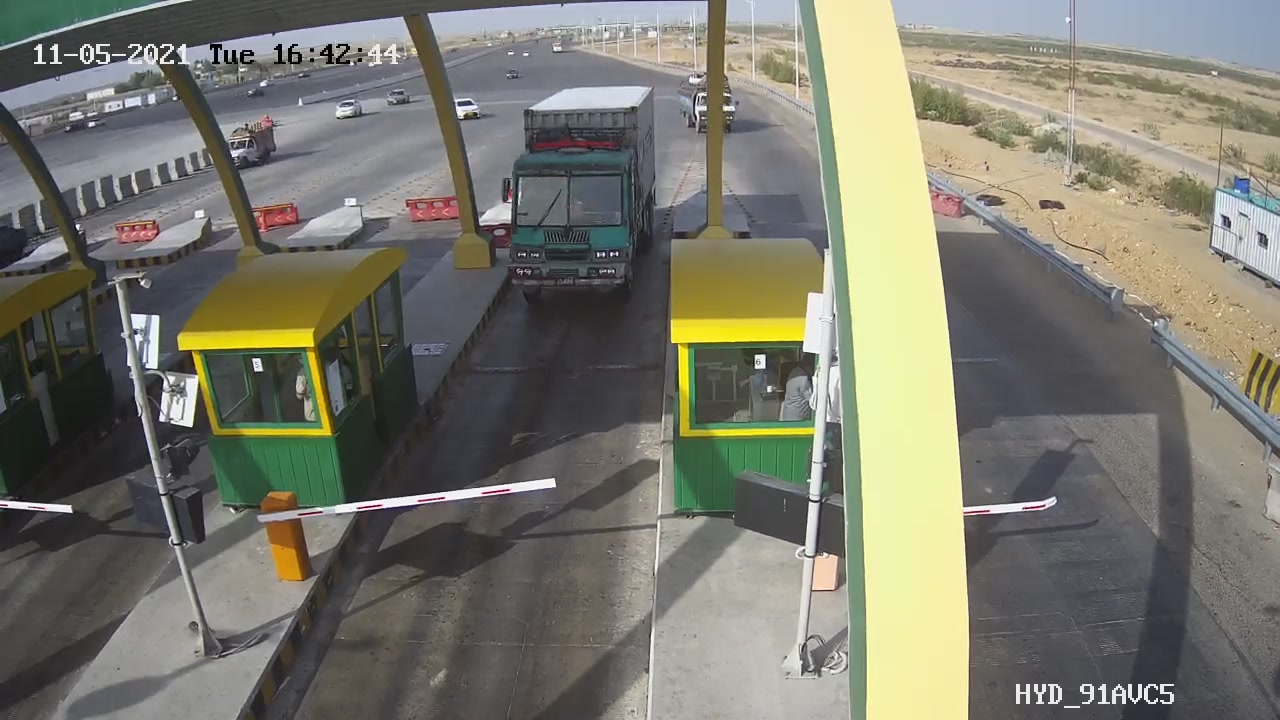F6: (487, 72, 683, 324)
